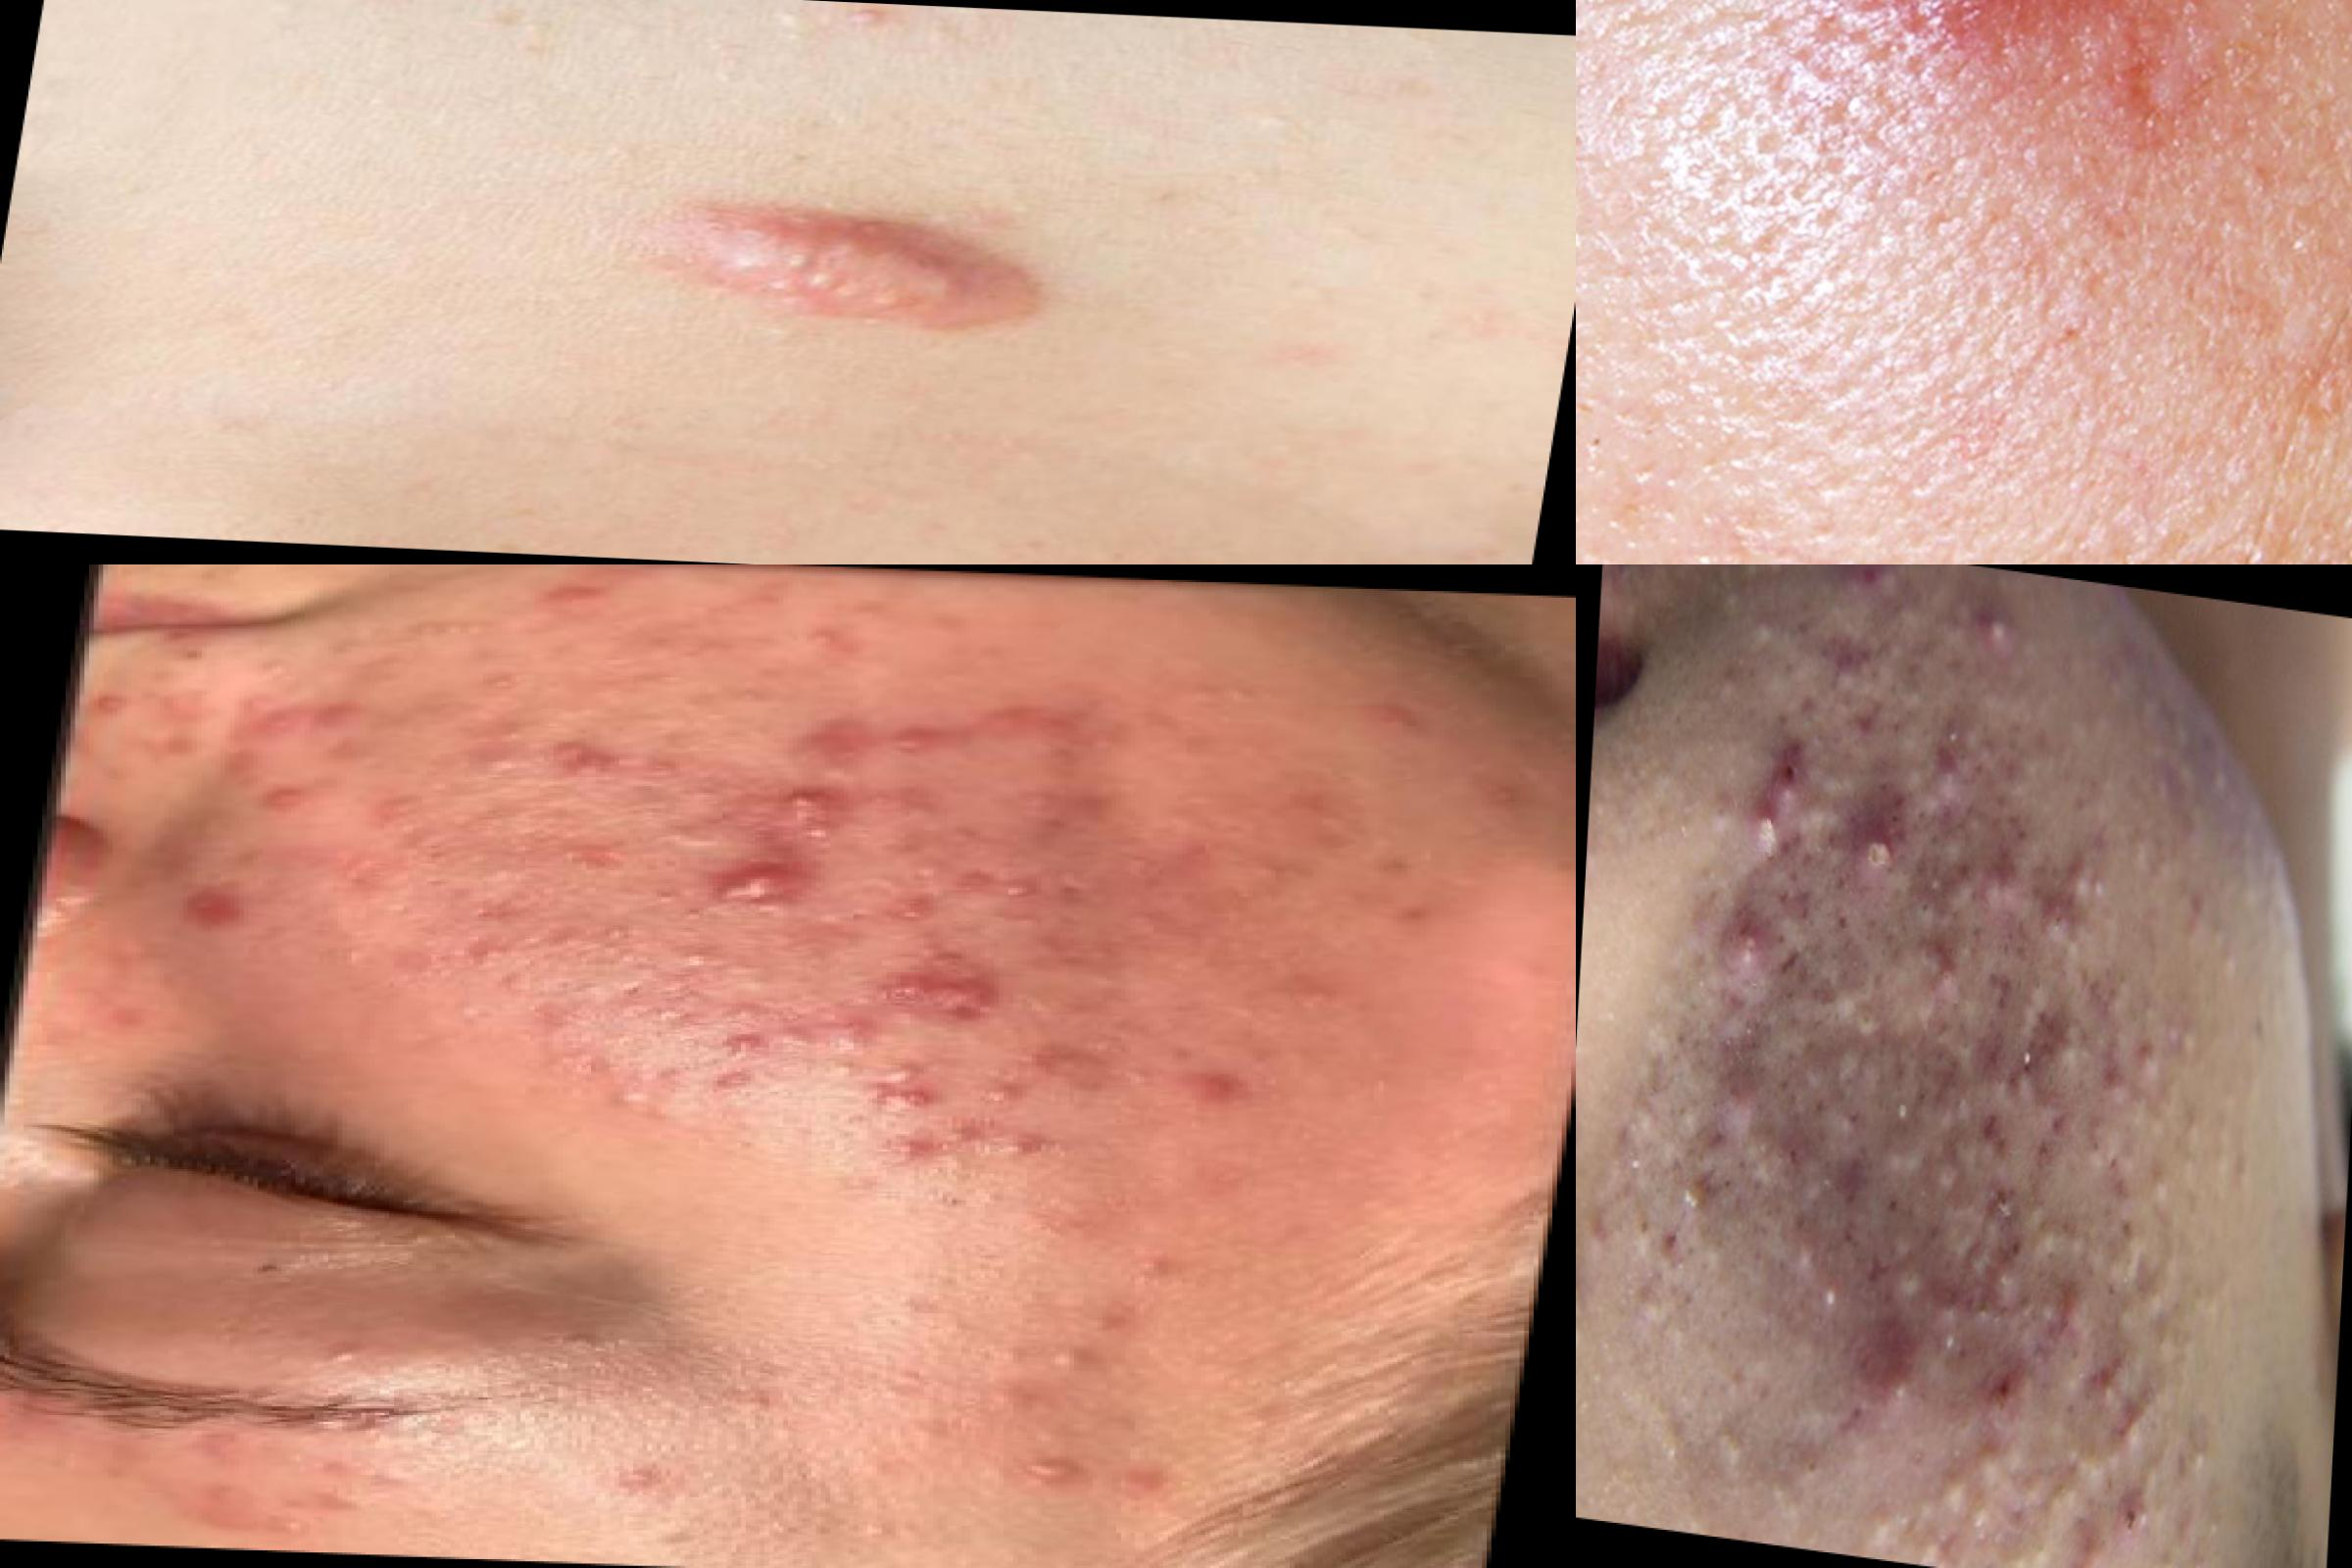acne_scars: (2067, 2, 2258, 212)
keloid: (632, 201, 1064, 341)
papular: (2102, 961, 2186, 1120), (756, 716, 920, 794), (161, 878, 292, 938), (518, 733, 644, 793), (2102, 1333, 2161, 1458), (1808, 1129, 1876, 1221), (233, 684, 331, 745), (982, 1043, 1099, 1090), (1169, 1064, 1286, 1108), (1979, 838, 2039, 922), (1976, 1346, 2032, 1433), (1934, 731, 1983, 824), (969, 870, 1073, 912), (306, 696, 404, 740), (66, 681, 156, 724), (243, 779, 336, 821), (532, 574, 620, 616), (877, 721, 961, 759), (1727, 1053, 1762, 1134), (877, 894, 950, 929)
purulent: (982, 1442, 1132, 1507), (831, 1050, 954, 1122), (735, 772, 856, 828), (1860, 1328, 1921, 1430), (1848, 808, 1909, 892), (772, 814, 871, 852), (691, 1060, 780, 1099), (703, 1024, 788, 1062), (1731, 910, 1773, 980), (1979, 593, 2025, 656), (868, 1137, 948, 1171), (926, 1117, 990, 1150), (989, 1130, 1055, 1162), (975, 1076, 1039, 1108), (1759, 786, 1785, 850)
sebo-crystan-conglo: (873, 961, 1066, 1031), (672, 857, 850, 917), (2112, 1472, 2156, 1558), (2021, 959, 2065, 1019), (2081, 1099, 2112, 1178)
whitehead: (950, 1332, 1139, 1421), (280, 1447, 431, 1531), (451, 702, 569, 801), (1930, 1423, 2016, 1547), (257, 1316, 394, 1382), (2016, 1188, 2109, 1279), (590, 1451, 707, 1517), (1771, 1426, 1836, 1543), (1692, 716, 1750, 843), (2228, 831, 2284, 948), (2209, 1074, 2256, 1200), (2054, 1435, 2119, 1526), (644, 933, 756, 982), (1741, 583, 1792, 679), (796, 1004, 903, 1050), (2200, 901, 2252, 992), (2062, 838, 2119, 919), (1888, 1237, 1946, 1318), (1809, 1246, 1865, 1326), (1827, 628, 1881, 709), (2191, 1249, 2238, 1335), (525, 919, 614, 961), (1694, 1220, 1741, 1295), (1881, 1111, 1928, 1183), (394, 612, 506, 642), (1718, 1407, 1752, 1500), (586, 915, 658, 957), (2053, 1328, 2096, 1395), (1848, 980, 1885, 1059), (784, 626, 865, 660), (1473, 777, 1545, 814), (313, 630, 388, 665), (1904, 882, 1950, 940), (1944, 1013, 1984, 1073), (1591, 1181, 1617, 1270), (1685, 1039, 1718, 1109), (2144, 1155, 2175, 1227), (1638, 1188, 1666, 1255), (472, 669, 534, 698), (723, 681, 784, 709), (2018, 1272, 2041, 1344), (1627, 1104, 1664, 1148), (1731, 565, 1787, 579)
